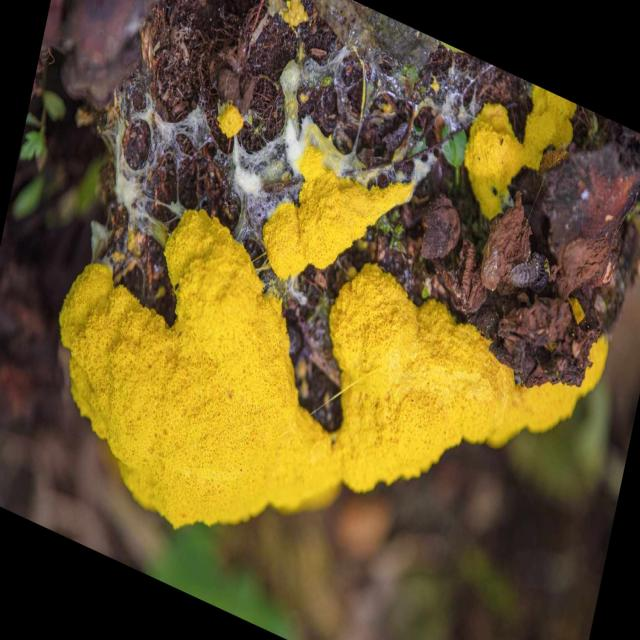Dog_vomit_slime_mold: (43, 178, 628, 528)
